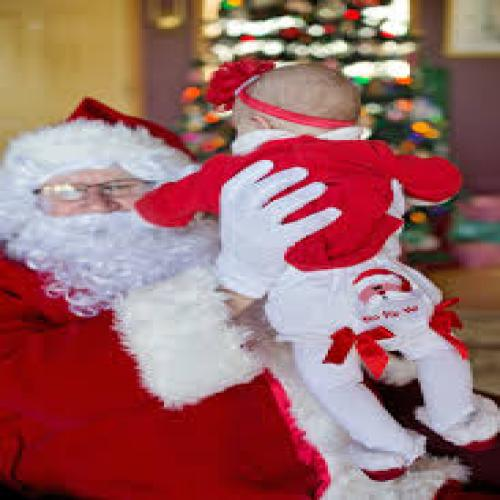Santa: (0, 95, 340, 500)
